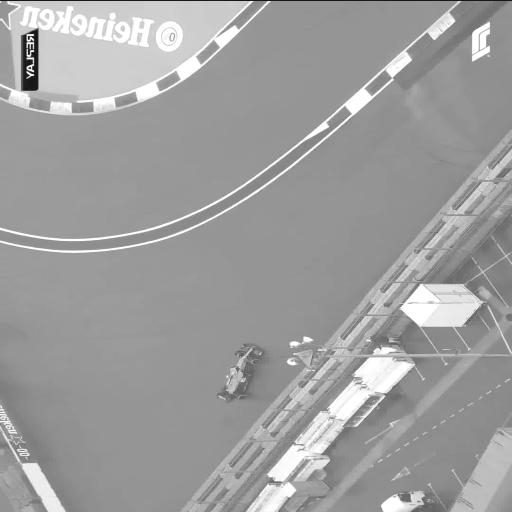f1_car: (217, 343, 262, 401)
